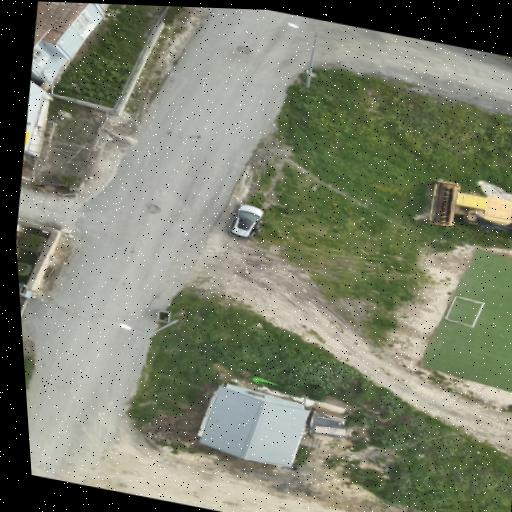car: (229, 205, 263, 239)
harvester: (424, 181, 511, 231)
